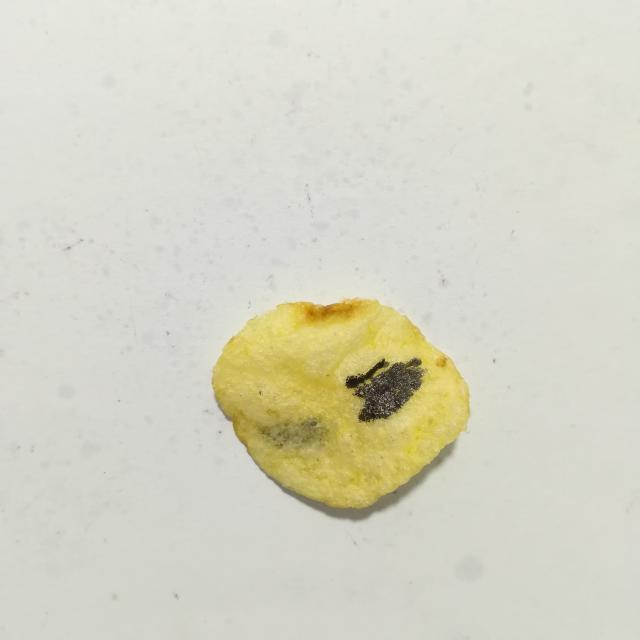chip: (212, 298, 469, 508)
damaged: (345, 358, 425, 421)
semi-damaged: (260, 417, 326, 448), (259, 391, 261, 395)
